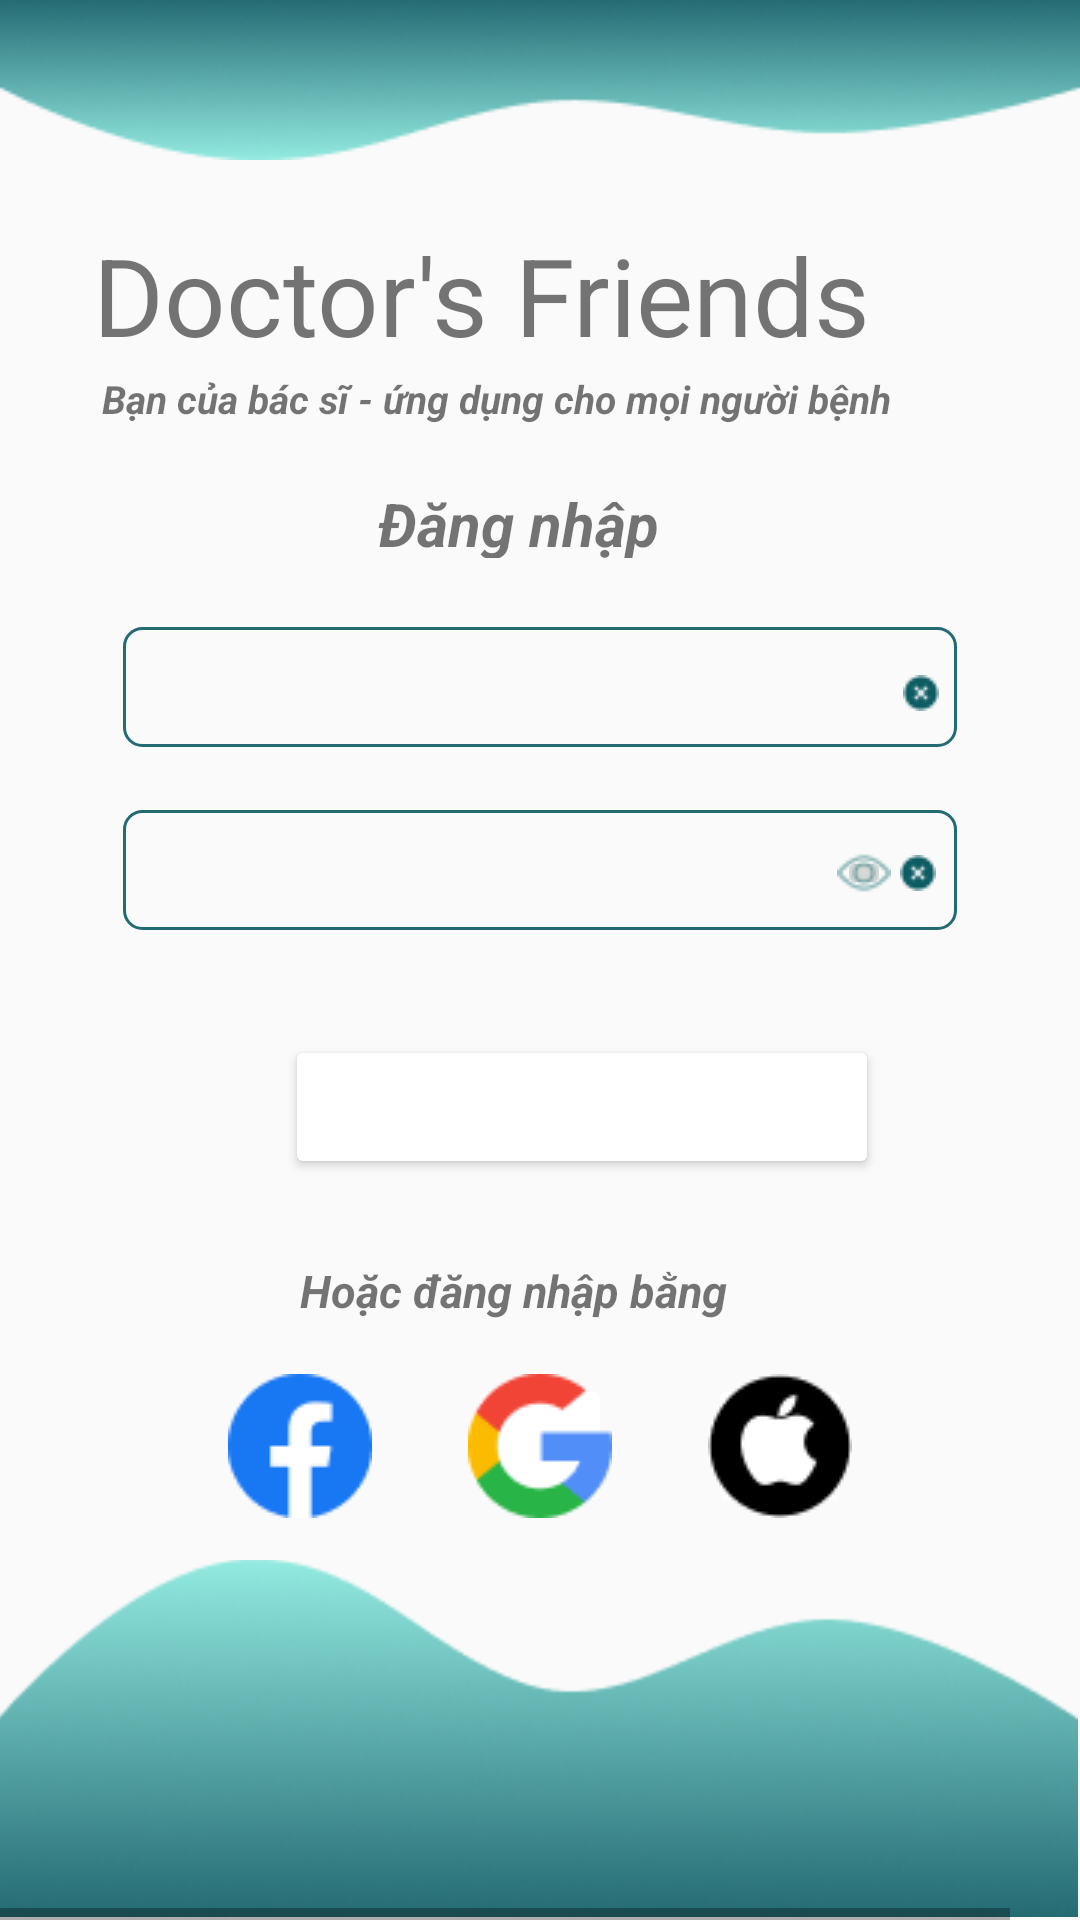

Screen size 1080 × 1920. Icon name, then its box in pixels as BBox(x1, y1, x2, y2):
cross: BBox(903, 675, 939, 711), BBox(900, 855, 936, 891)
view: BBox(837, 854, 891, 892)
